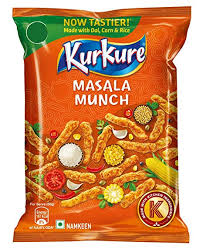kurkure: (64, 40, 147, 74)
plastic: (12, 7, 195, 248)
wrapper: (36, 22, 177, 230)
